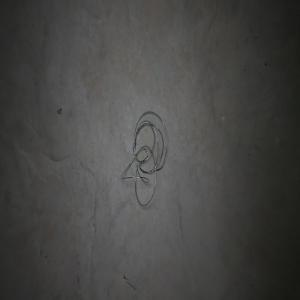Wire: (120, 110, 166, 205)
